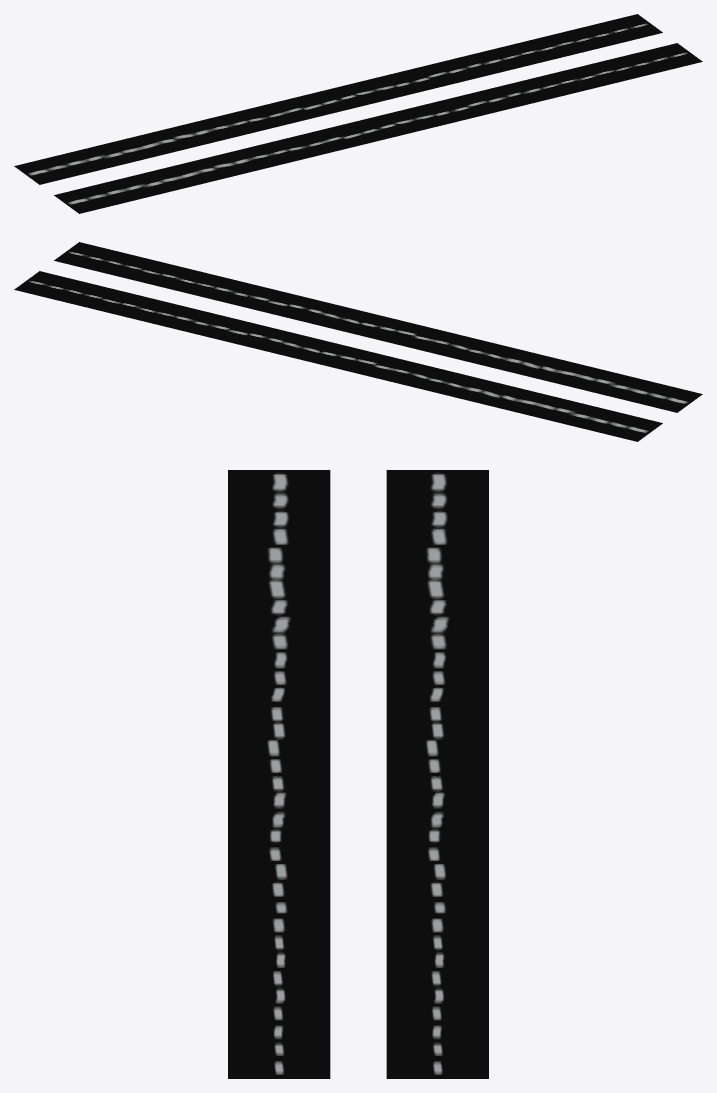
Rendered from runway.glb.
3 views of the same model, one above another, from view 1: azimuth 30°, elevation 25°; view 2: azimuth 150°, elevation 25°; view 3: azimuth 270°, elevation 25° (orthographic). The views are drawn at different scales.
Parts seen in each view (by area): view 1: Plane, Plane.001; view 2: Plane, Plane.001; view 3: Plane, Plane.001.
Boxes of the visible parts, <box> form: Plane: <box>54,43,702,213</box>; Plane.001: <box>14,14,662,184</box>; Plane: <box>54,242,702,412</box>; Plane.001: <box>14,271,662,441</box>; Plane: <box>228,470,330,1078</box>; Plane.001: <box>386,470,488,1078</box>.
Size of the model in its own units: 345 by 0 by 62.51.
Materials: 1 (1 with a texture image).
